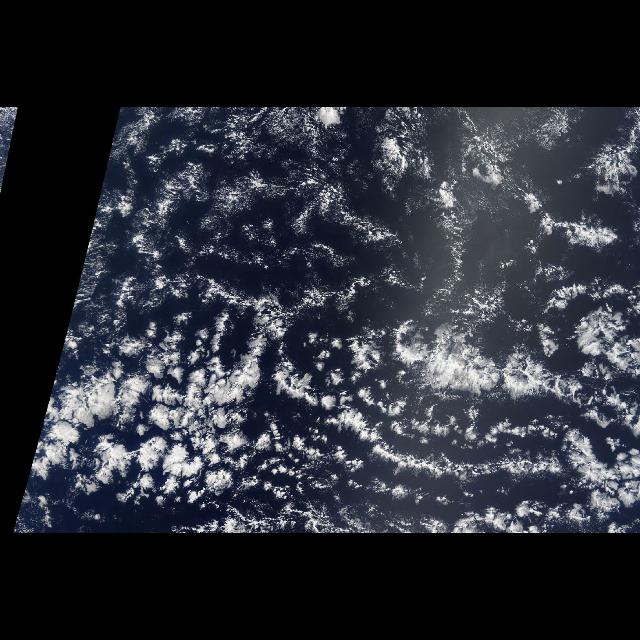Fish: (85, 149, 475, 325)
Flower: (31, 191, 634, 533)
